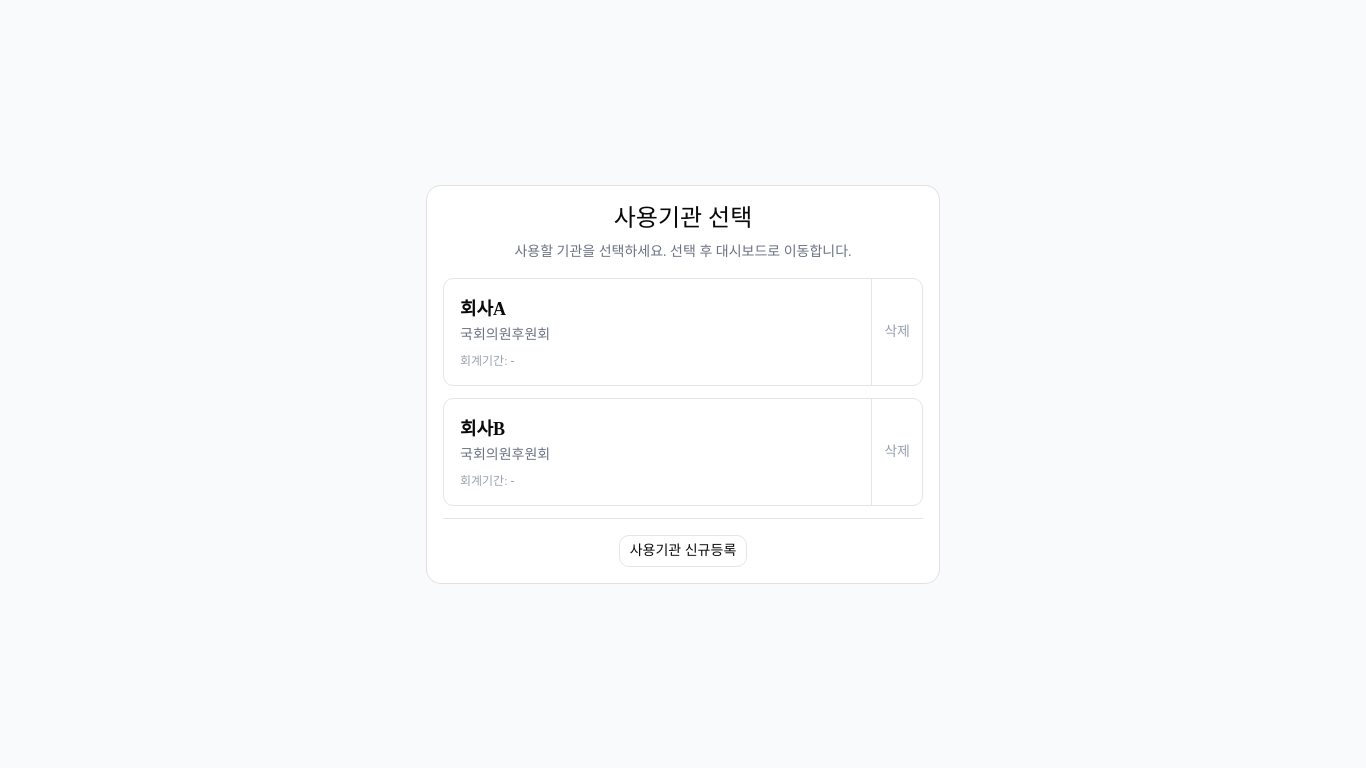
Test case: select-organ 삭제 모달 › 기관명이 정확히 일치할 때만 [영구 삭제]가 활성화된다
Expected: the text "회사A" is shown, [460,294,506,322]
Click the button with aria-label "회사A 삭제" at (897, 332), box [871,278,922,384]
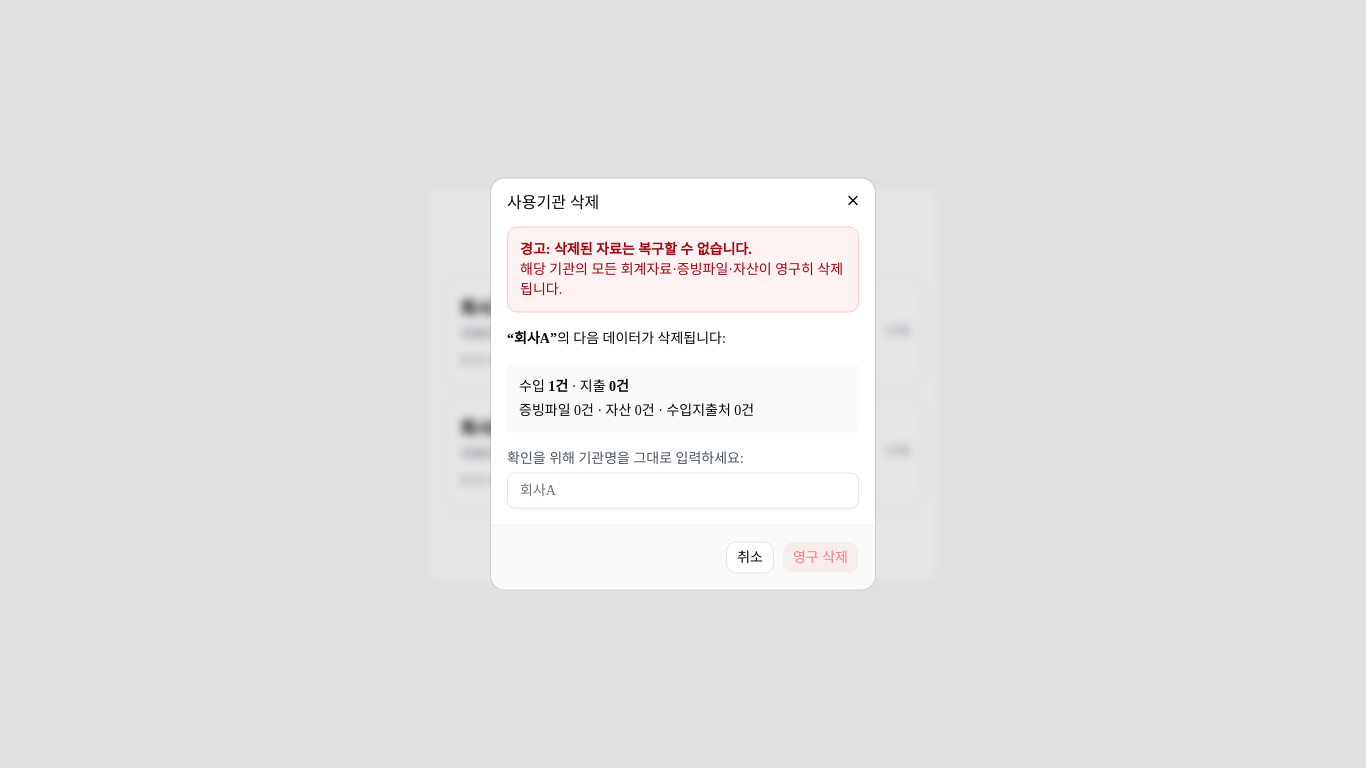
Now the heading "사용기관 삭제" is shown, box [507,194,599,210]
Now the button "영구 삭제" is disabled, box [782,542,859,574]
Type "회사" into the field named "삭제 확인용 기관명 입력" at (683, 490), box [507,472,859,508]
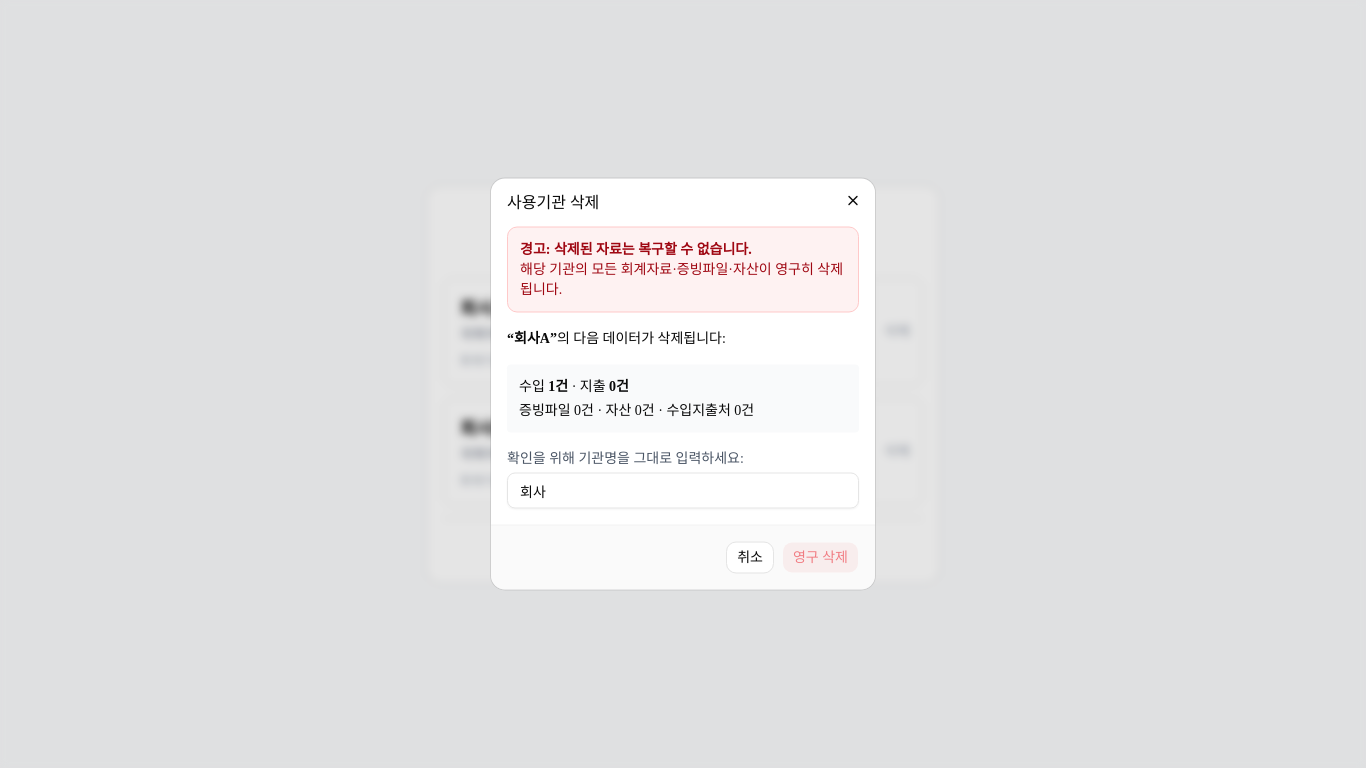
Now the button "영구 삭제" is disabled, box [782,542,859,574]
# 이름 일치 + 미리보기 성공 후에만 활성 (preview 비동기 로드 대기)
Replace the text in the field named "삭제 확인용 기관명 입력" with "회사A" at (683, 490), box [507,472,859,508]
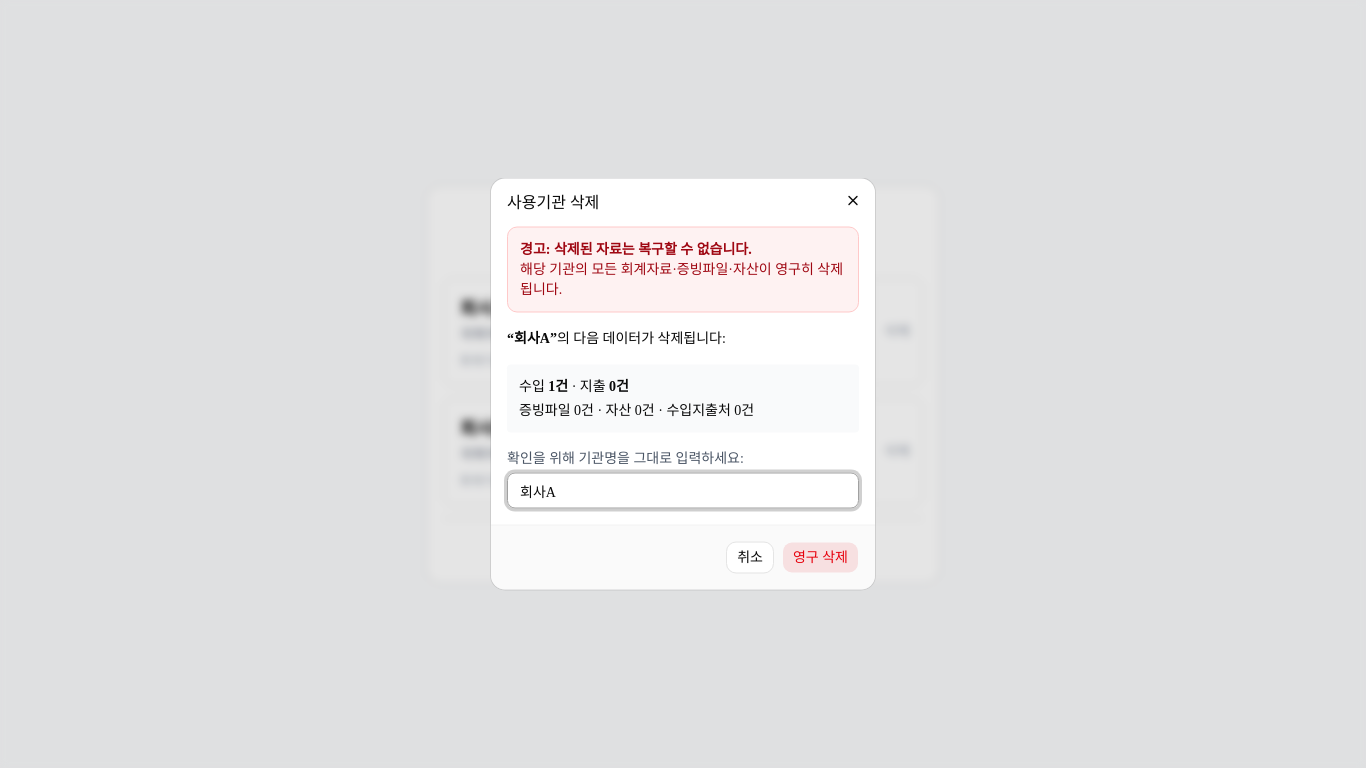
Now the button "영구 삭제" is enabled, box [782,542,859,574]
